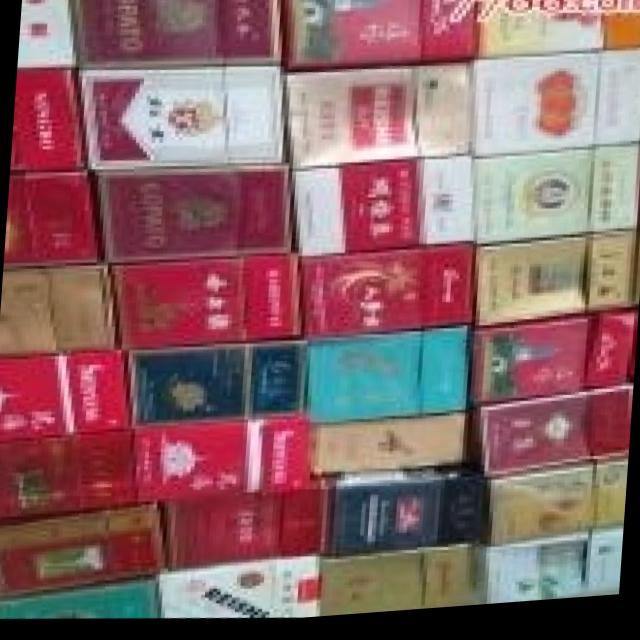box: (79, 68, 292, 173), (280, 70, 474, 173), (108, 257, 304, 352), (91, 170, 294, 261), (471, 55, 640, 163), (292, 163, 473, 260), (471, 151, 640, 251), (304, 332, 475, 430), (131, 421, 328, 506), (298, 248, 475, 342), (127, 342, 306, 430), (0, 504, 169, 597), (469, 238, 636, 332), (461, 395, 633, 484), (313, 472, 483, 561), (469, 320, 634, 411), (279, 0, 478, 73), (165, 491, 332, 577), (72, 0, 280, 68), (0, 433, 141, 525), (0, 351, 129, 446), (483, 468, 628, 551), (319, 551, 489, 619), (474, 0, 640, 67), (1, 264, 117, 353), (6, 170, 108, 271), (483, 538, 619, 611), (309, 417, 469, 479), (159, 561, 319, 622), (9, 67, 87, 175), (0, 577, 163, 618), (17, 0, 79, 70)
